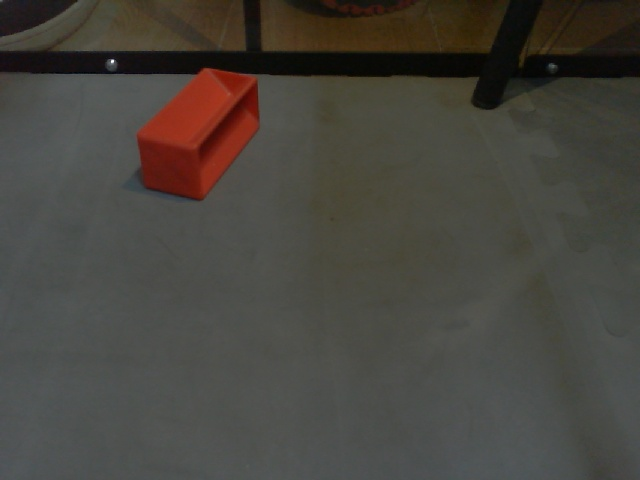RedSample: (134, 65, 263, 204)
